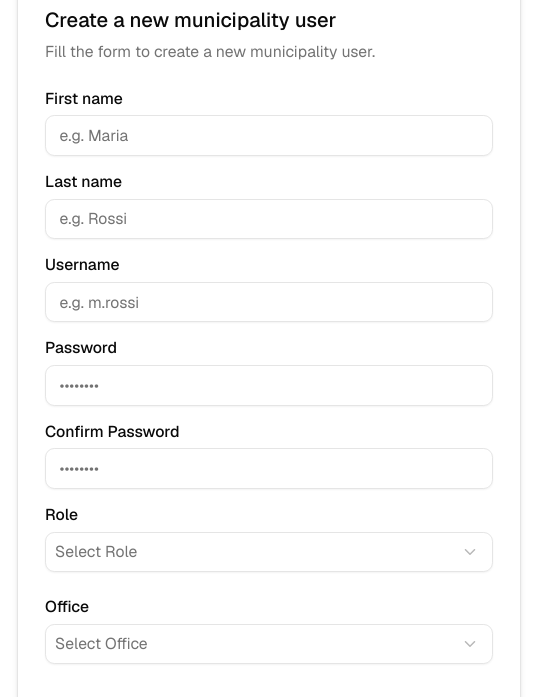
Test: MunicipalityUserForm › should reset companyId when role changes from EXTERNAL_MAINTAINER_WITH_ACCESS
// First select external maintainer
Click the dropdown labelled "Select Role" at (96, 551), box 45,532 -> 493,572
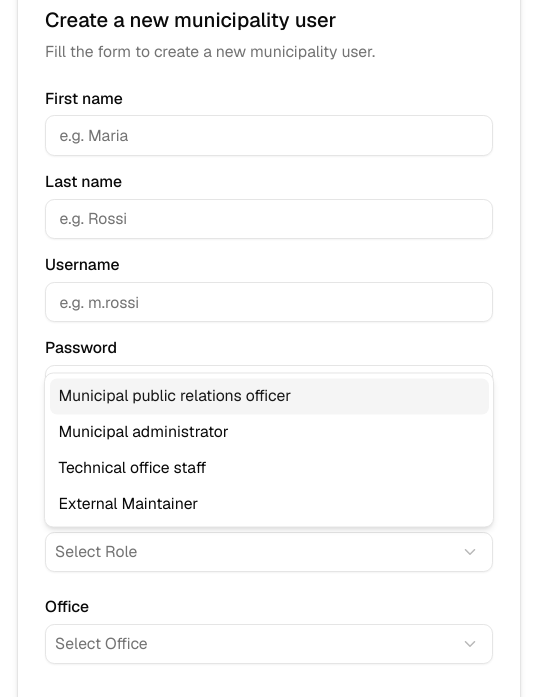
Click the option "External Maintainer" at (128, 503), box 58,493 -> 198,514
(page scrolled)
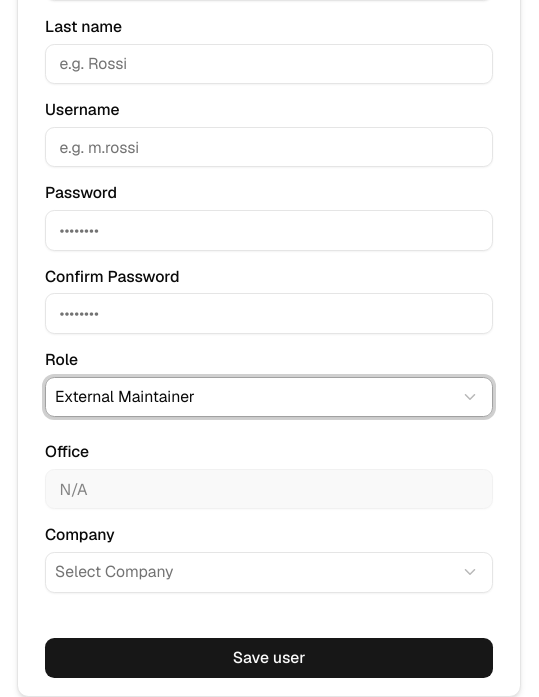
Check: the dropdown labelled "Select Company" is shown
// Select a company
Click the dropdown labelled "Select Company" at (114, 572), box 45,552 -> 493,592
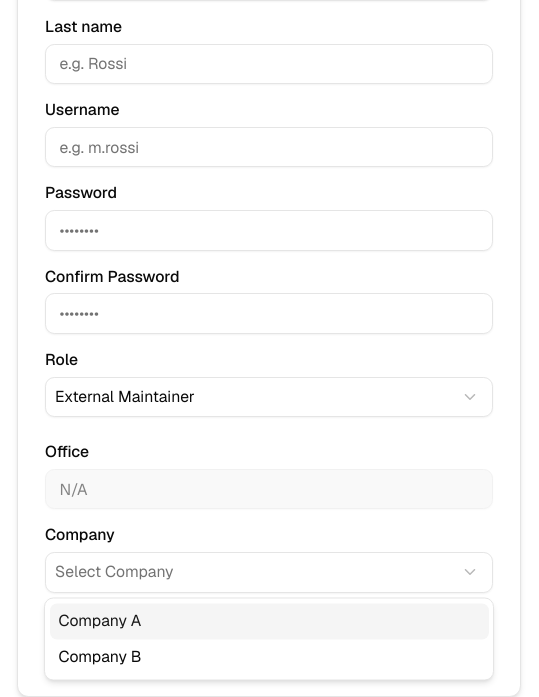
Click the option "Company A" at (100, 620), box 50,603 -> 488,639
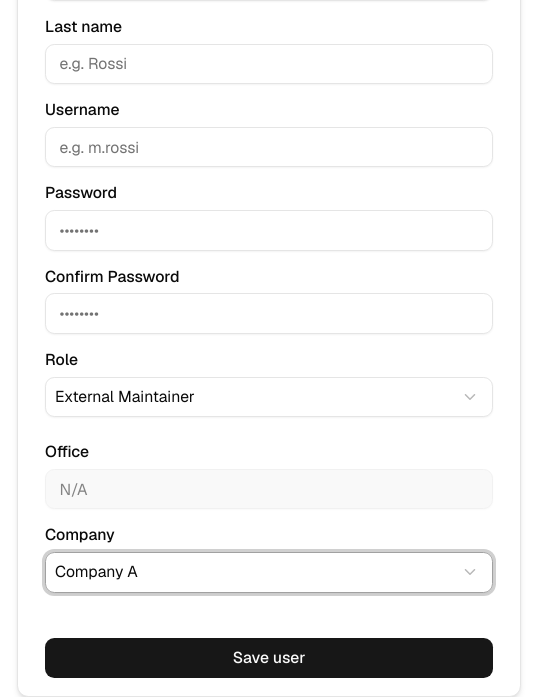
// Change role
Click the dropdown named "Role" at (125, 396), box 45,376 -> 493,417
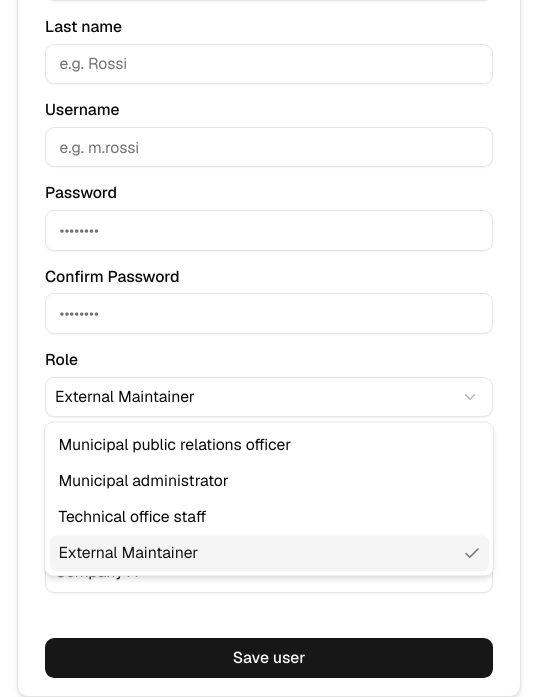
Click the option "Municipal administrator" at (144, 480), box 58,470 -> 229,491
(page scrolled)
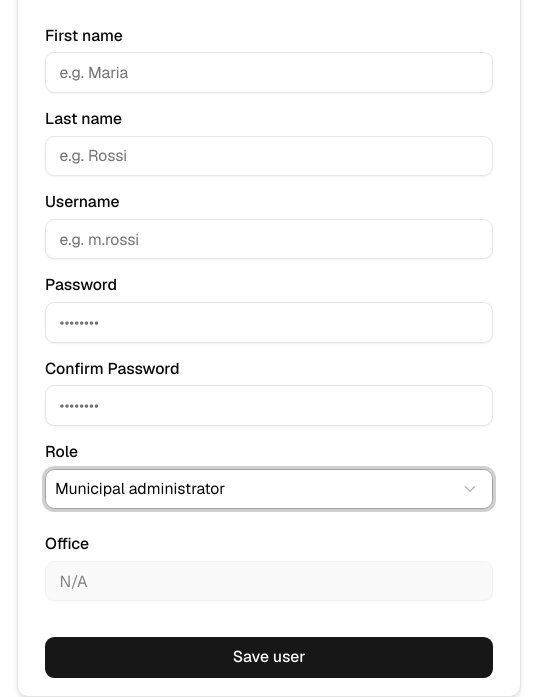
Check: the label labelled "Company" is gone
